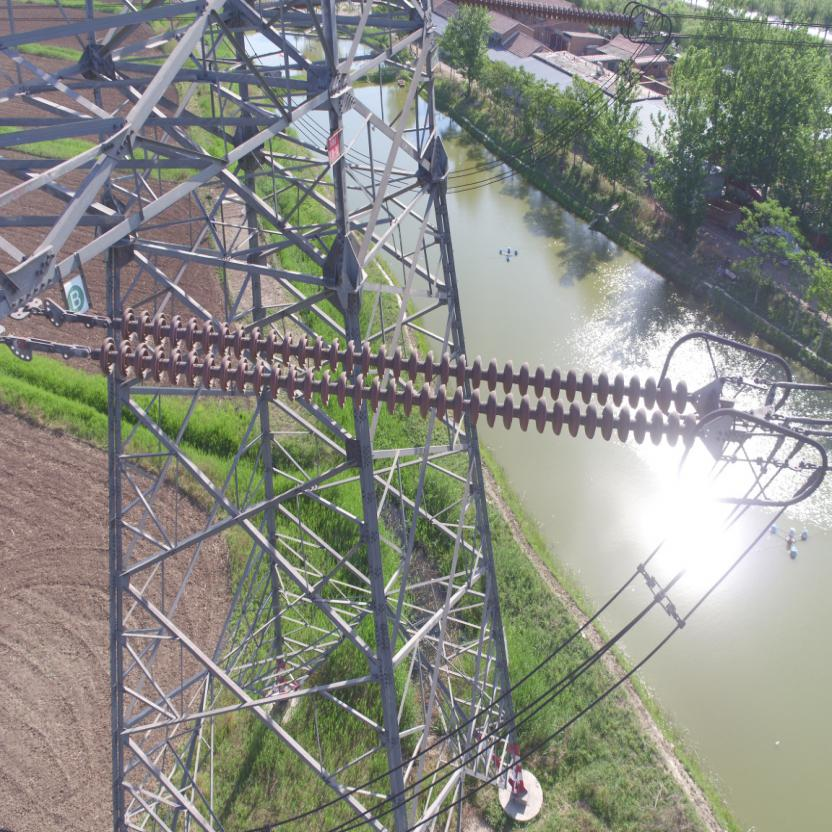insulator: (67, 302, 709, 452)
